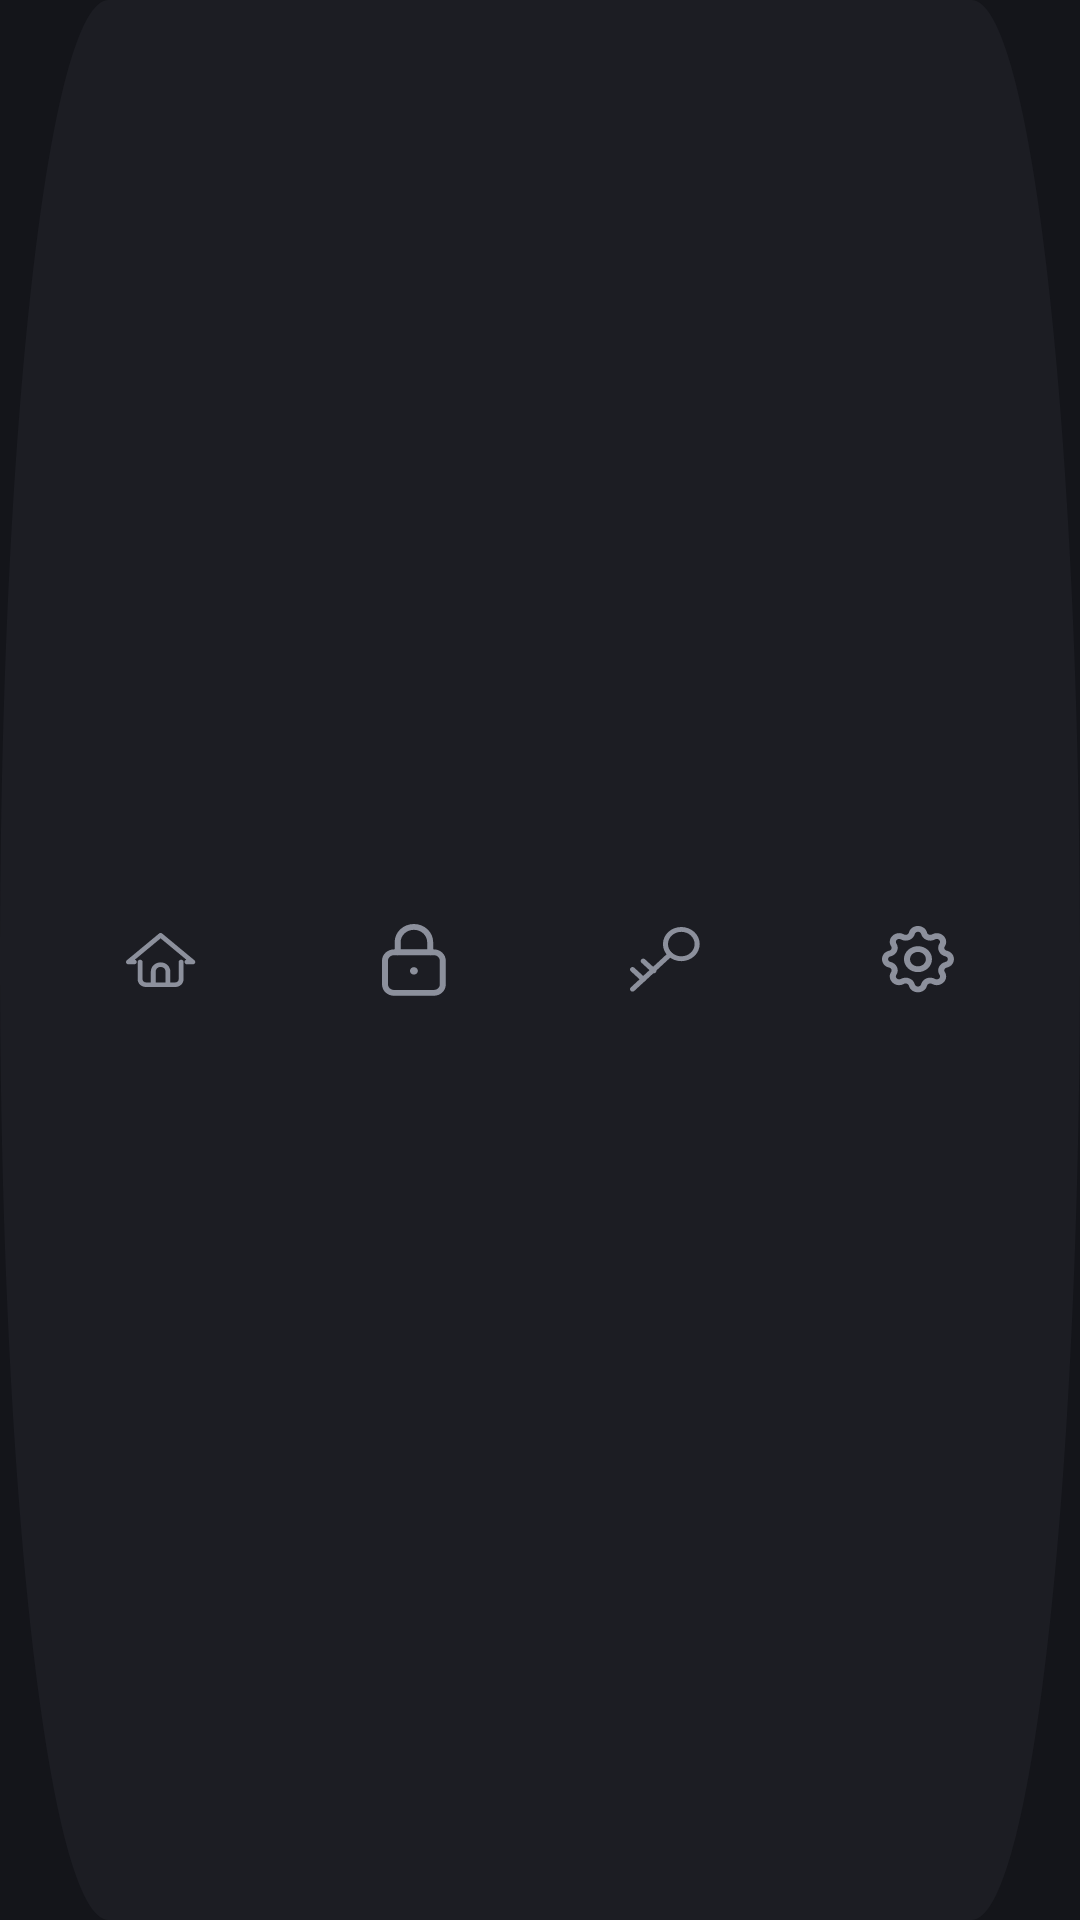

Icon bounding boxes for this 1080*1920 phone screenshot, format (x1, y1, x2, y2):
home: (126, 933, 195, 987)
key: (630, 927, 700, 992)
lock: (382, 924, 446, 996)
settings: (882, 926, 954, 993)
